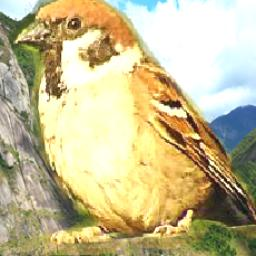Sparrow: (10, 0, 256, 256)
